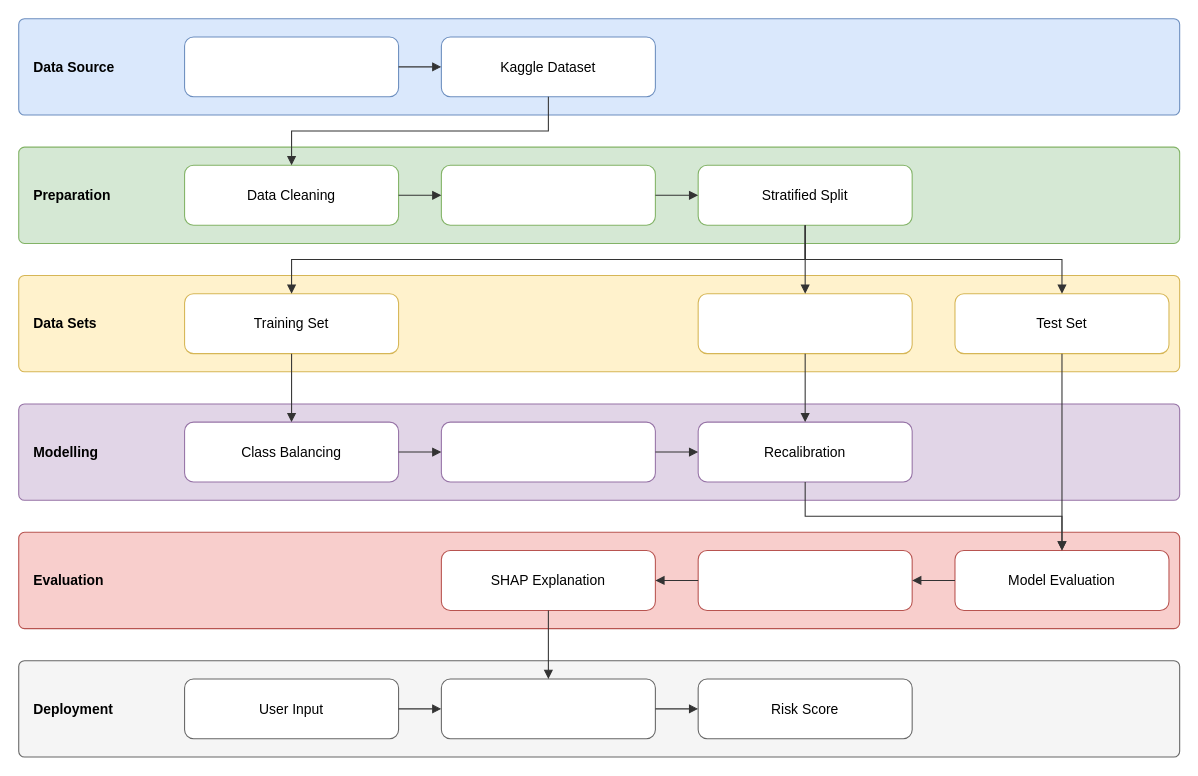
This 1198x776 diagram has some shape labels left out. Here are the shapes that lost their labels. From the top down, the box of each, then its label:
(184, 36, 399, 97): BRFSS 2023 Data
(440, 164, 655, 225): Encoding & Scaling
(697, 293, 912, 354): Calibration Set
(440, 421, 655, 482): Model Training
(697, 549, 912, 610): Subgroup Analysis
(440, 678, 655, 739): App
